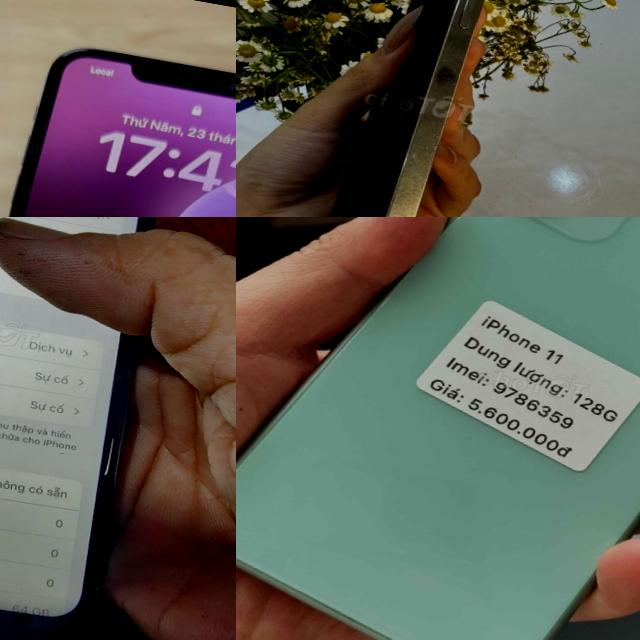scratch: (374, 40, 477, 217), (104, 349, 144, 505), (90, 581, 108, 600)
